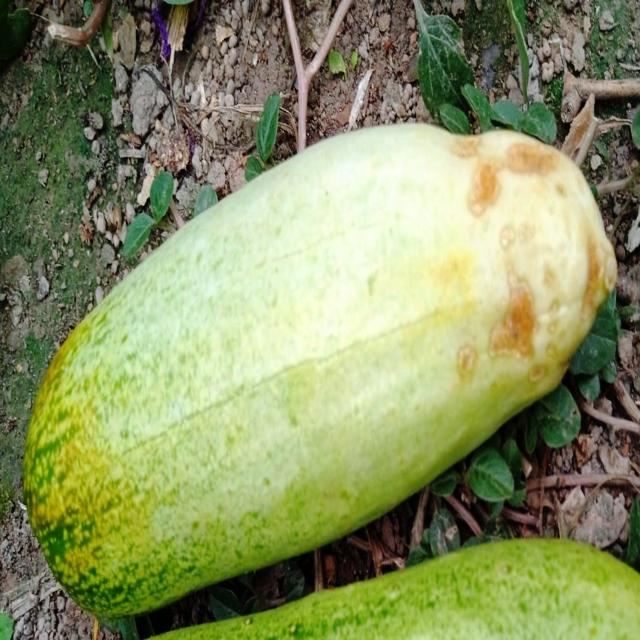Belly-Rot: (440, 126, 605, 390)
